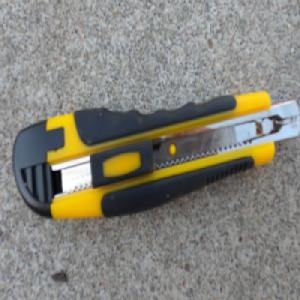Cutter: (11, 88, 300, 224)
